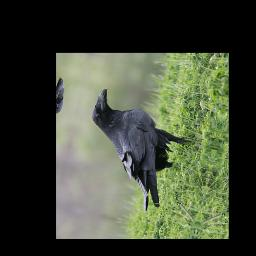Crow: (74, 86, 199, 220)
